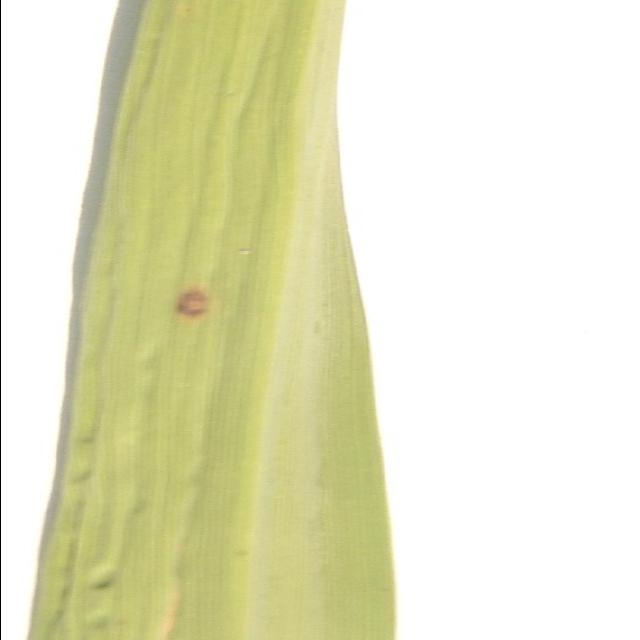Brown_Spot: (156, 272, 247, 326)
